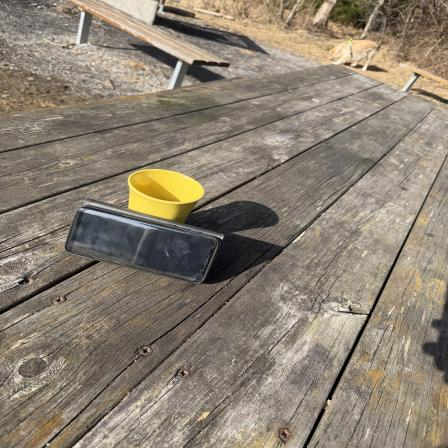phone: (65, 198, 234, 288)
yellow_cup: (130, 169, 204, 275)
